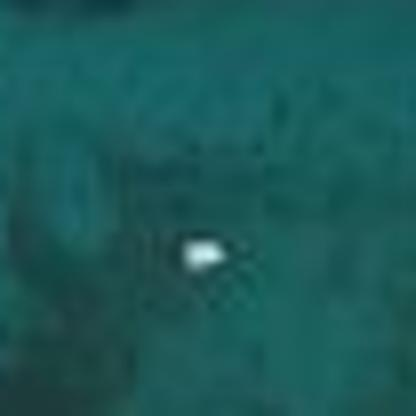ship: (170, 229, 235, 287)
